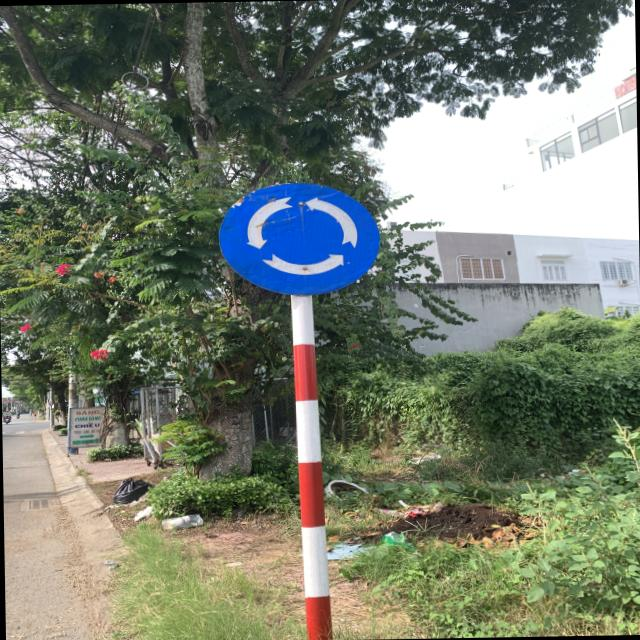Xe_Bus: (218, 180, 384, 298)
